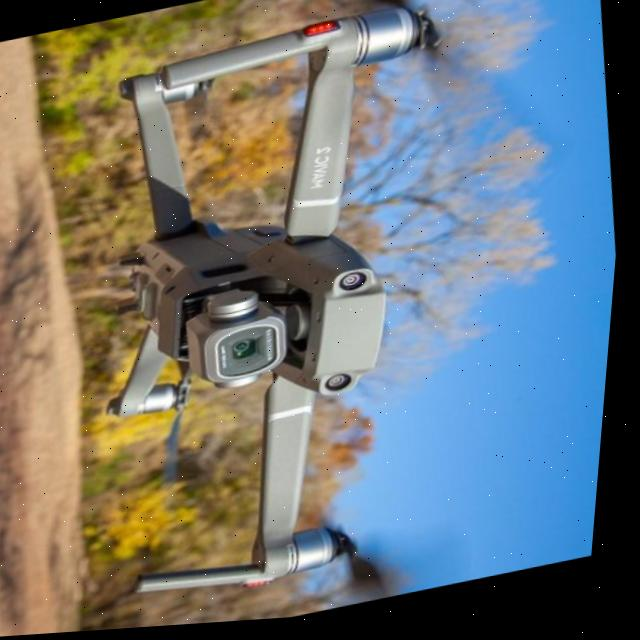drones: (17, 0, 531, 637)
